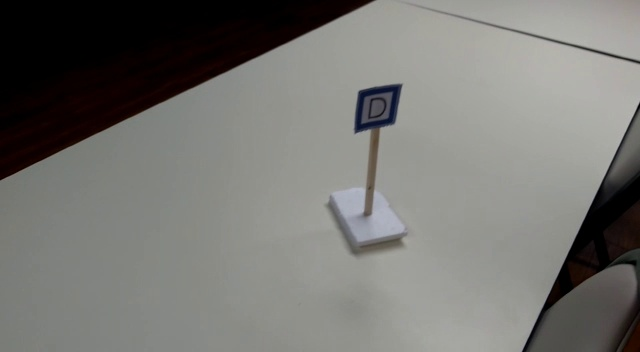durak: (355, 83, 401, 131)
